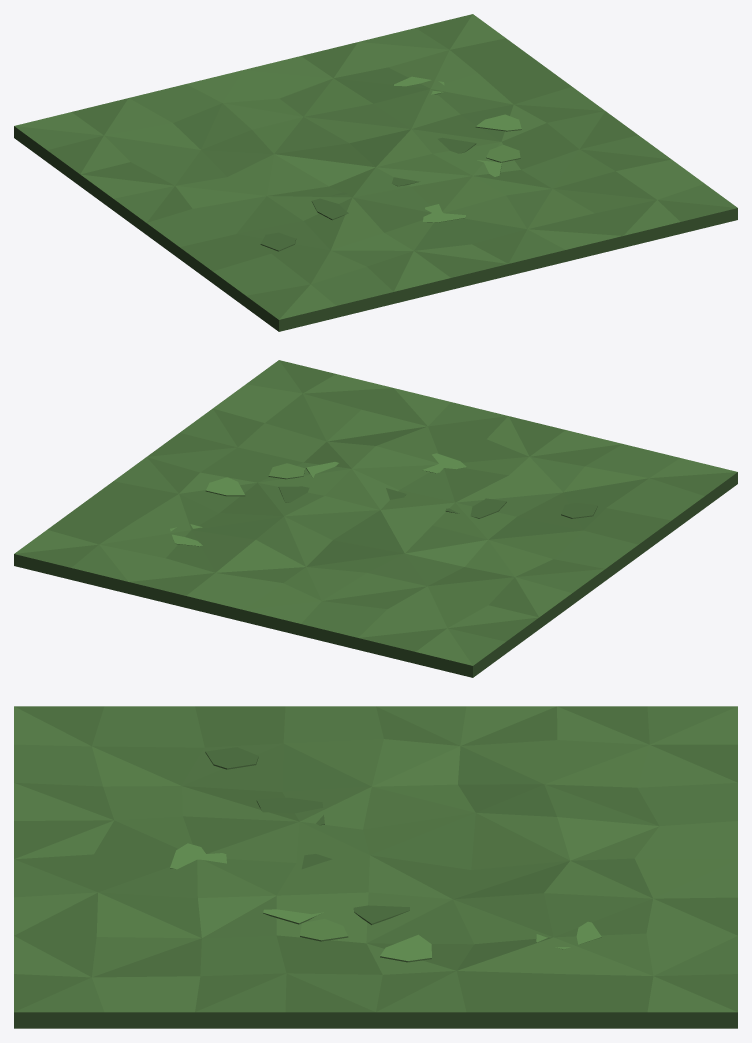
The model's file is ground_grass_c.obj.
3 views of the same model, one above another, from view 1: azimuth 30°, elevation 25°; view 2: azimuth 150°, elevation 25°; view 3: azimuth 270°, elevation 25° (orthographic). The views are drawn at different scales.
Bounding box in the file's own units: 4 × 0.1325 × 4.
